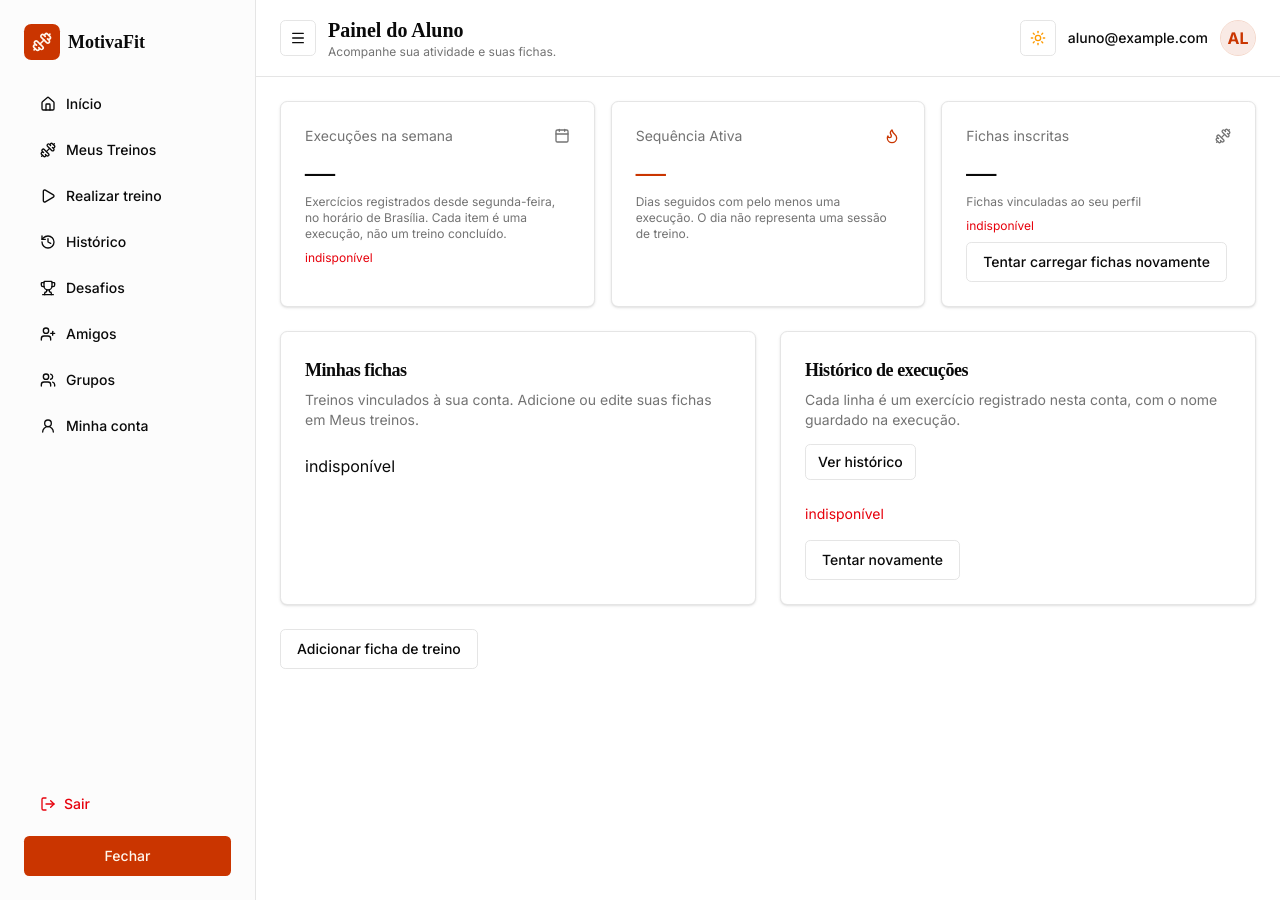
Test case: painel do aluno › permite repetir quando o histórico falha
The image size is (1280, 900).
Click the button "Tentar novamente" at (883, 560), box [805,540,960,580]
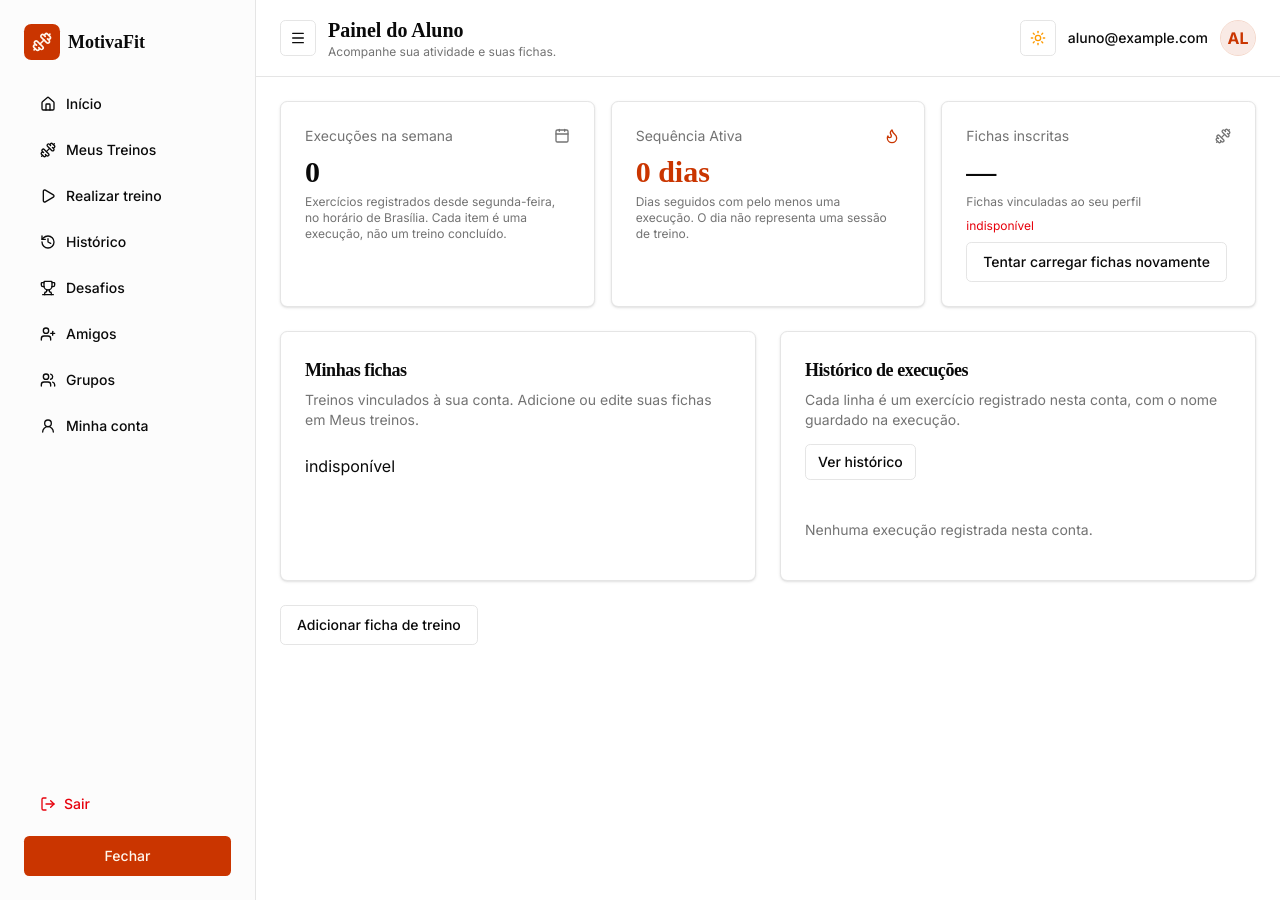
Expected: the text "Nenhuma execução registrada nesta conta." is shown, [805,521,1093,538]
